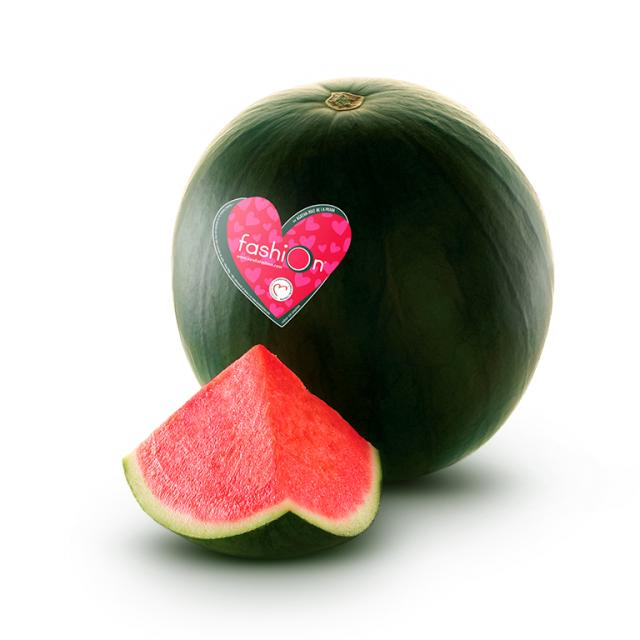watermelon: (165, 69, 568, 495), (133, 342, 388, 570)
